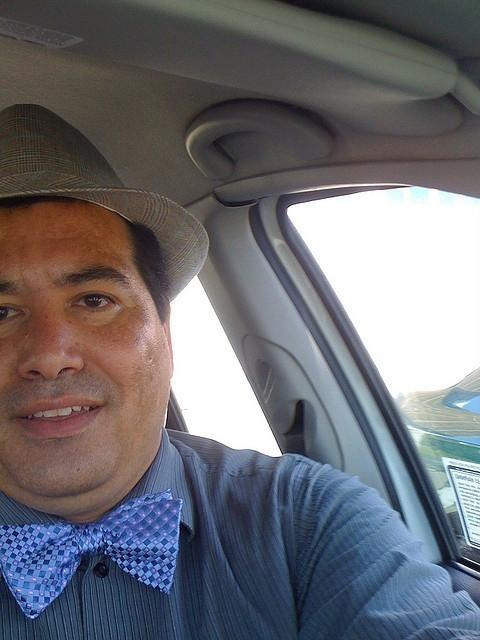car: (2, 2, 480, 574)
